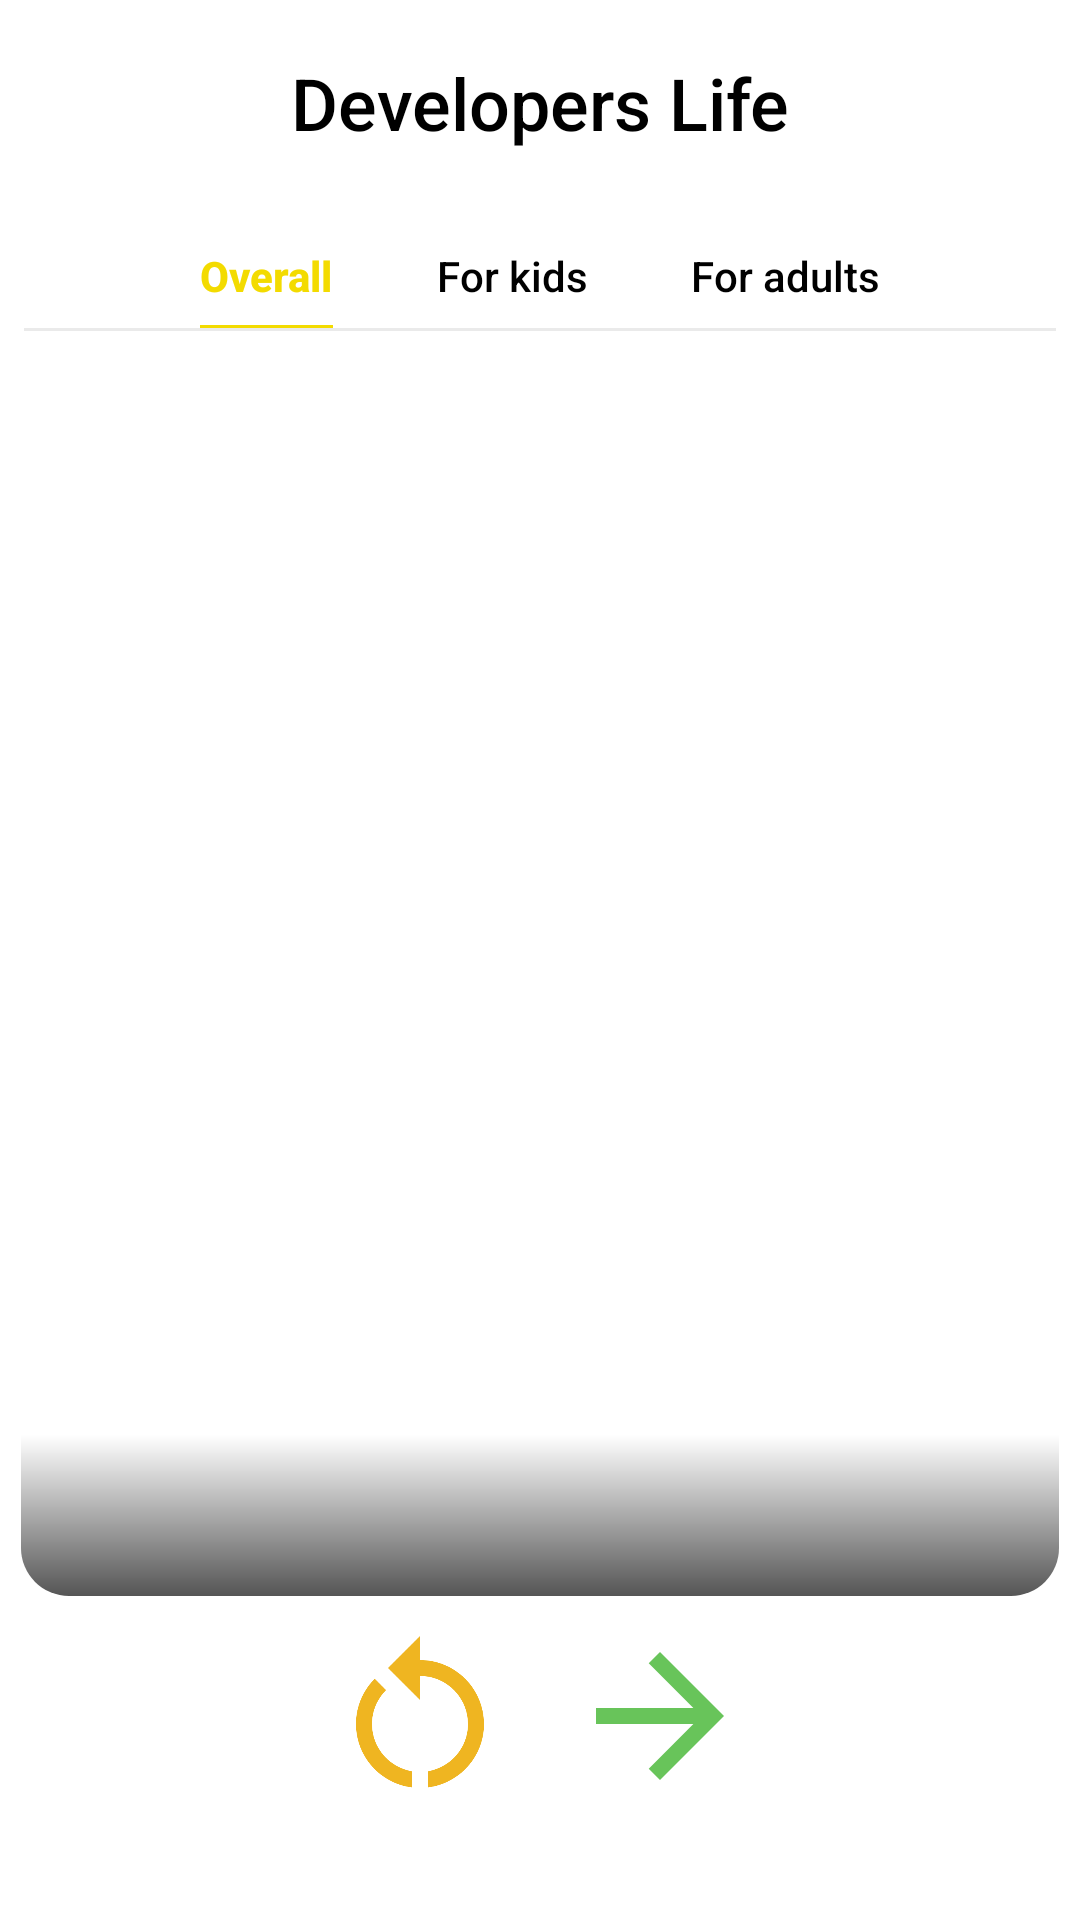

Icons on this 1080 x 1920 Android screen, each with its box as (left=x1, top=y1, right=x2, bottom=y2):
arrow forward: (left=596, top=1652, right=724, bottom=1780)
restart: (left=356, top=1636, right=484, bottom=1788)
